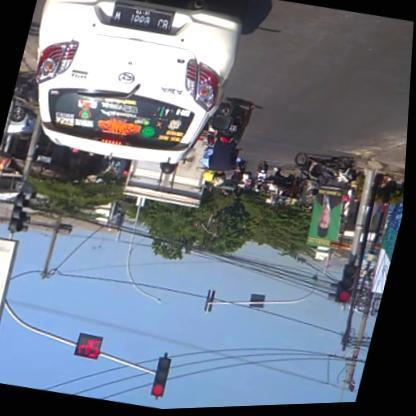red: (336, 264, 363, 308), (153, 356, 177, 400)
